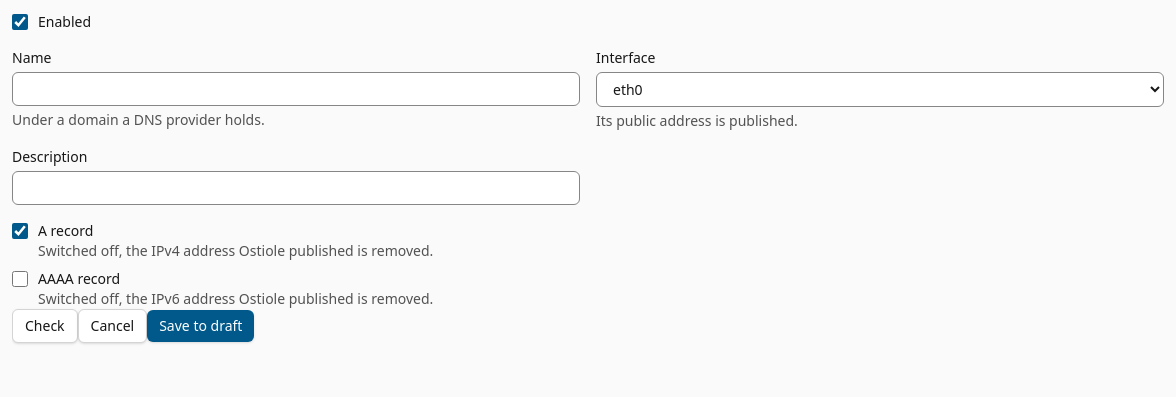
it: RecordDialog › refuses a name no provider holds, a record with no type, and a type kept twice
Type "home.example.net" into the field with id "ddns-name" at (296, 89), box x1=12 y1=72 x2=580 y2=106
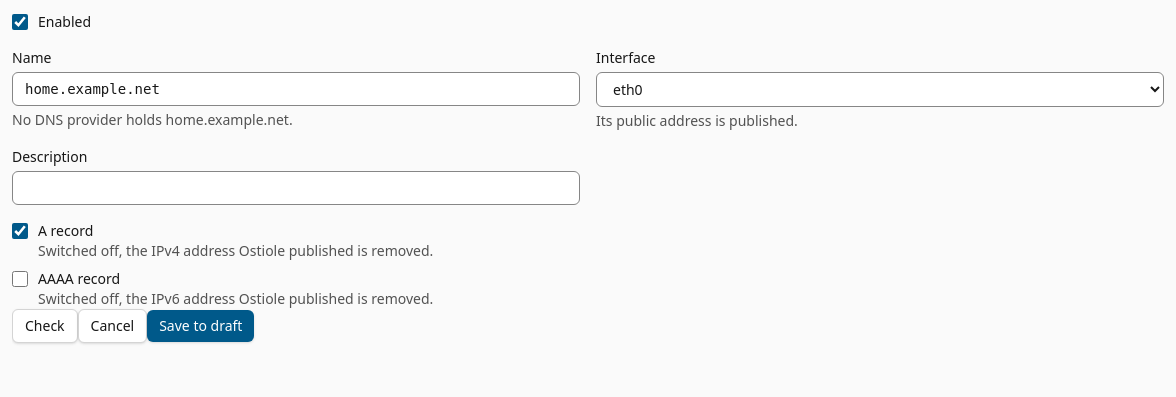
Check: the text "No DNS provider holds home.example.net." is shown, box x1=12 y1=110 x2=293 y2=129
Submit the form
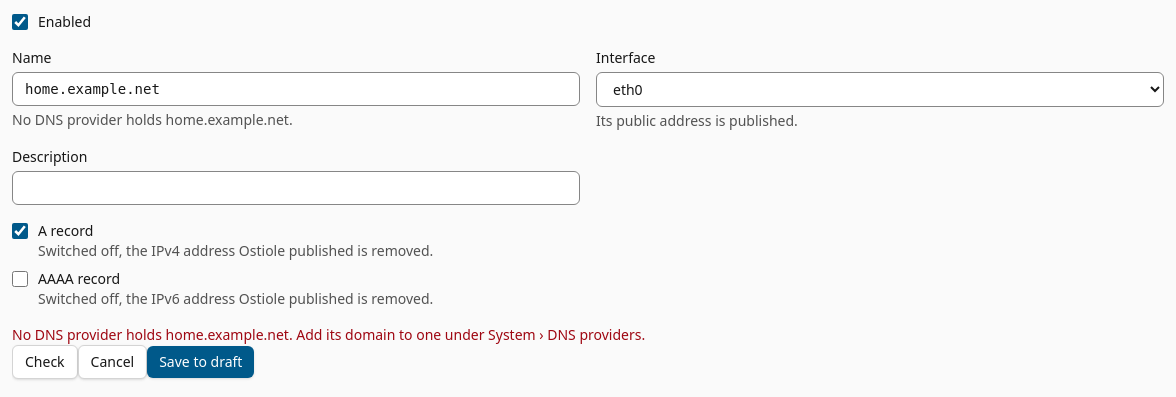
Check: the message shows "Add its domain to one", box x1=12 y1=325 x2=645 y2=344
Replace the text in the field with id "ddns-name" with "home.example.com" at (296, 89), box x1=12 y1=72 x2=580 y2=106
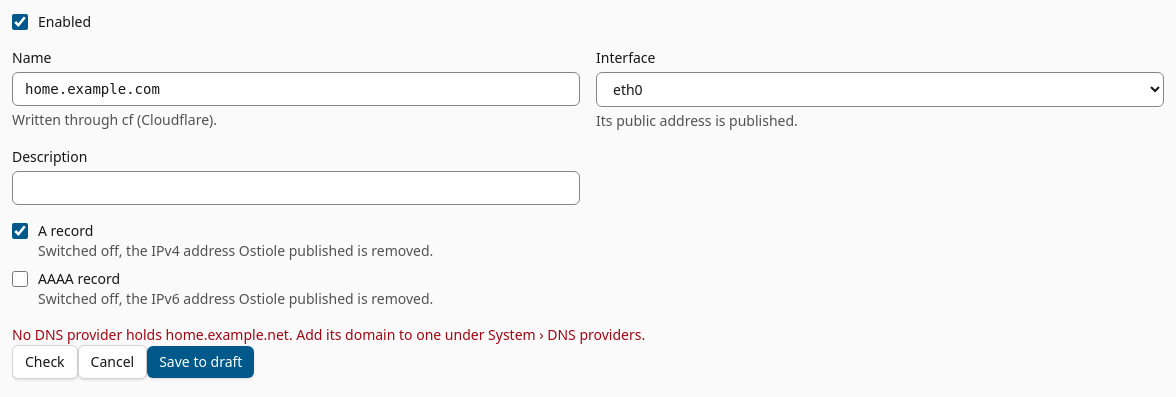
Submit the form
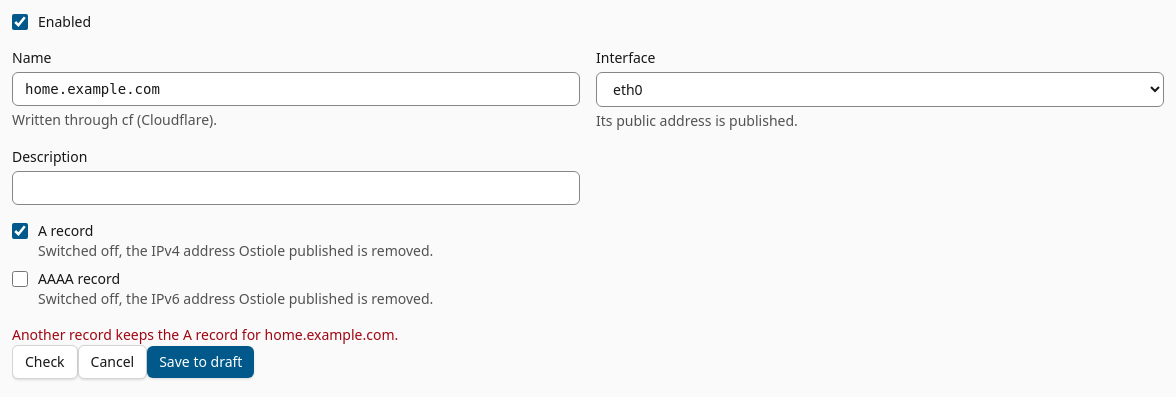
Check: the message "Another record keeps the A record for home.example.com." is shown, box x1=12 y1=325 x2=398 y2=344
Click the 2nd checkbox at (20, 231), box x1=12 y1=223 x2=28 y2=239
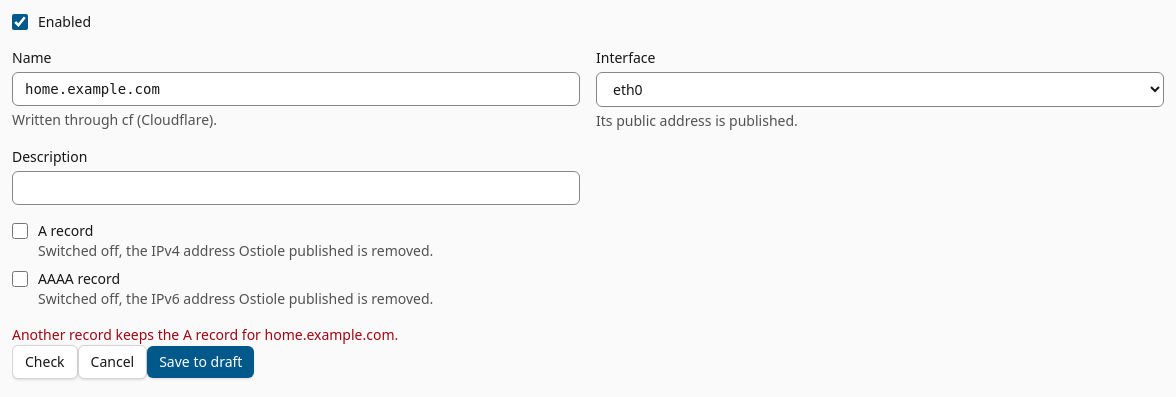
Submit the form
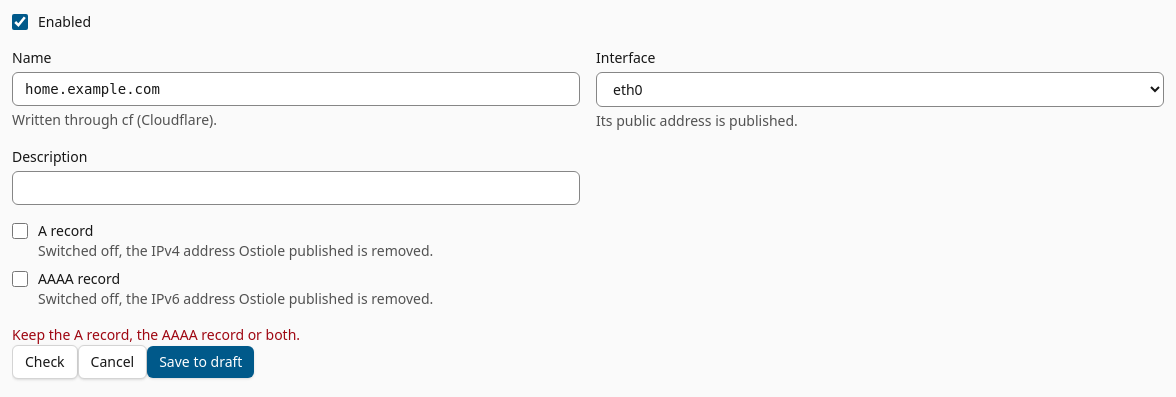
Check: the message "Keep the A record, the AAAA record or both." is shown, box x1=12 y1=325 x2=300 y2=344
